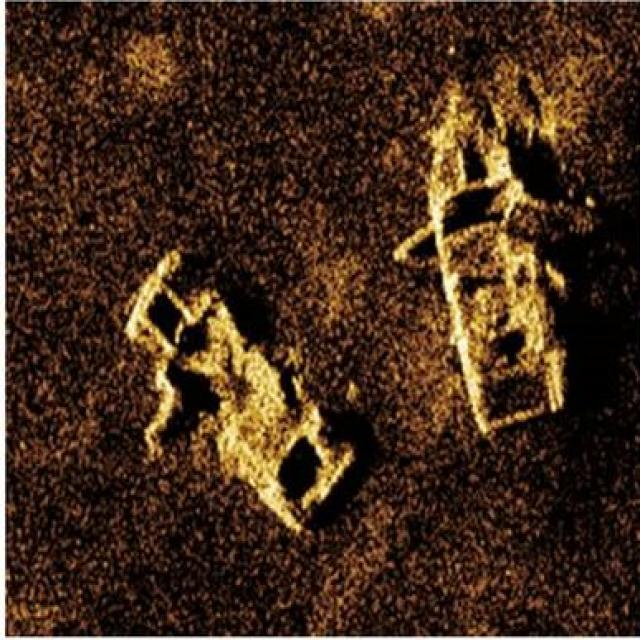other: (120, 238, 360, 536), (390, 88, 579, 442)
